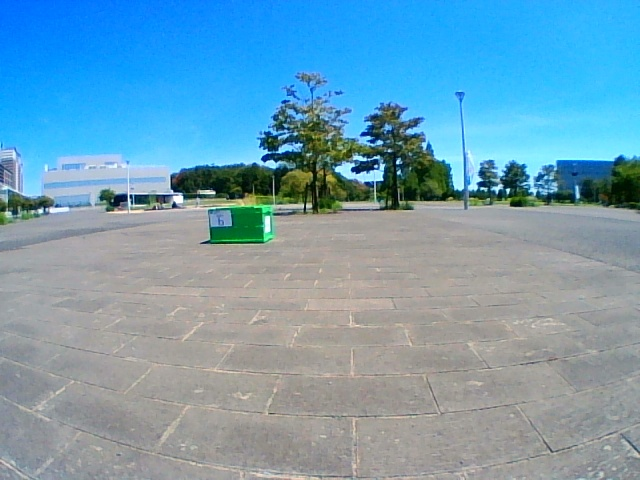green_box: (208, 206, 272, 243)
tag_b: (209, 209, 231, 227)
